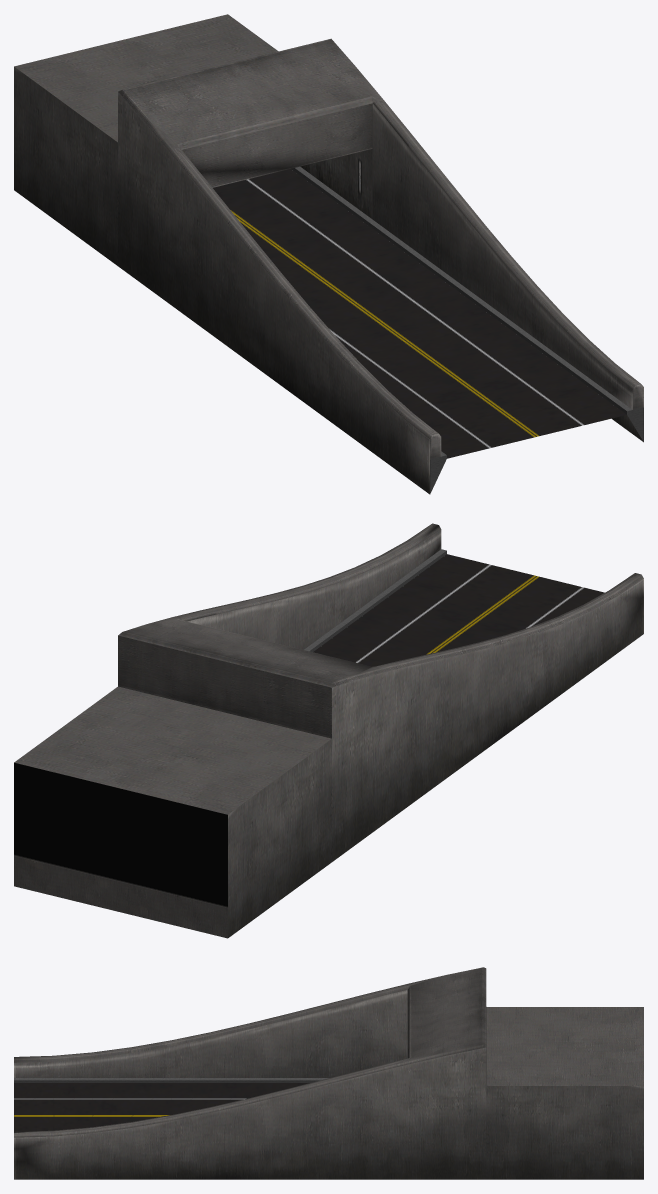
Rendered from RJs_Road Slim 2+2 Slope Segment.fbx.
The picture shows the model from 3 angles, top to bottom: view 1: azimuth 30°, elevation 25°; view 2: azimuth 150°, elevation 25°; view 3: azimuth 270°, elevation 25°; orthographic projection. The views are drawn at different scales.
Parts seen in each view (by area): view 1: plane; view 2: plane; view 3: plane.
Boxes of the visible parts, x1,y1,x2,y2 form: plane: (14,14,643,494); plane: (14,523,643,938); plane: (14,967,643,1179).
Bounding box in the file's own units: 1900 × 6400 × 1506.
